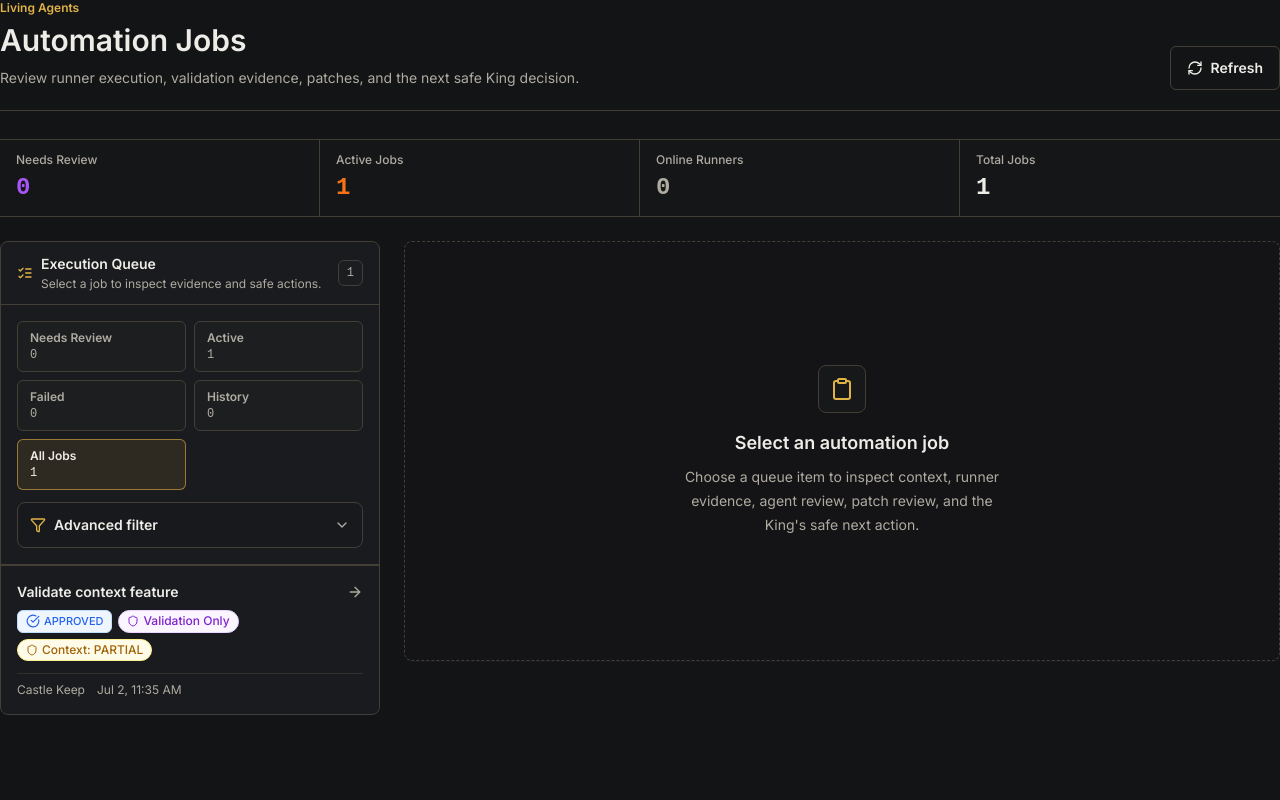
Test: AutomationJobsPage — context binding (M17E-2) › shows the Context Binding panel, partial-context warning, and Base Context Used in the detail view
This screenshot has width=1280, height=800.
What coordinates should you click on to do the following:
click the heading "Validate context feature"
I would click on:
 (98, 592)
Its box is [17,582,178,602].
(page scrolled)
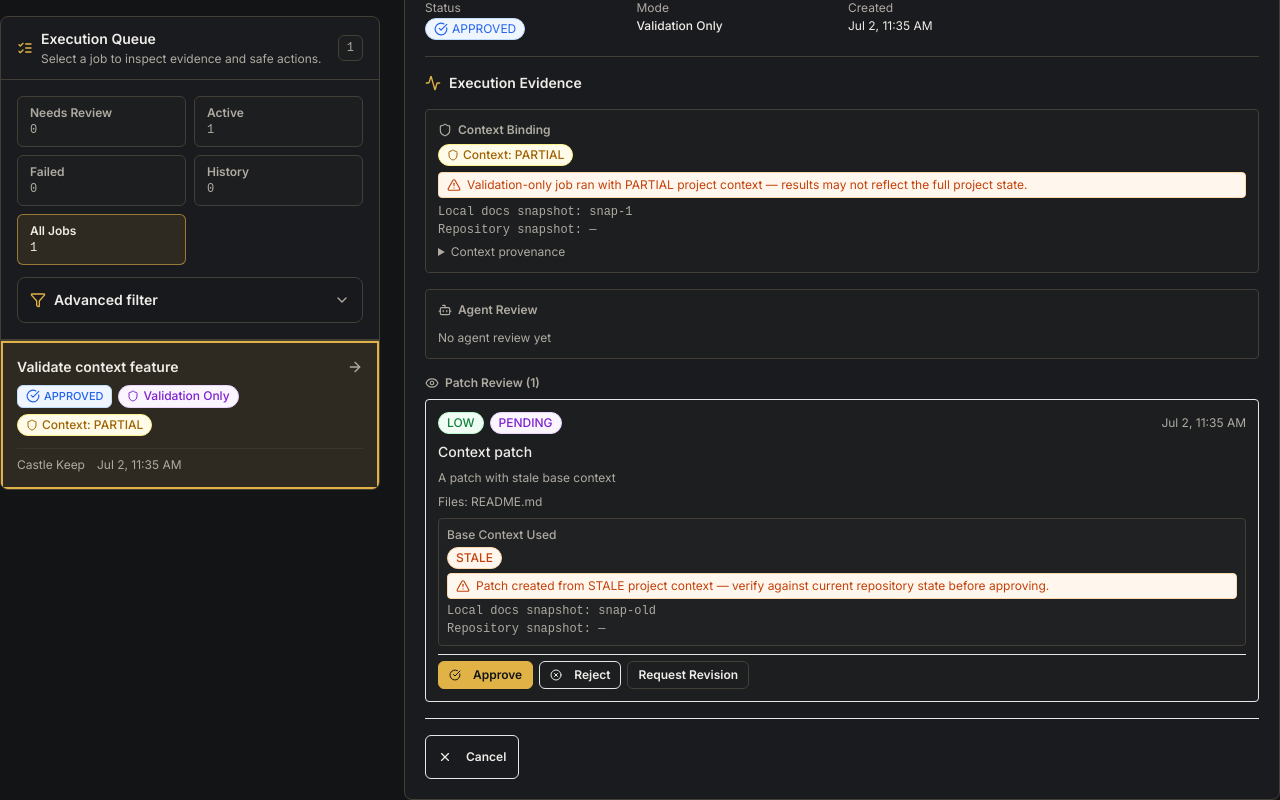
Result: the heading "Context Binding" is shown at [438,122,551,137]
Result: the text "Validation-only job ran with PARTIAL project context" is shown at [438,172,1246,198]
Result: the text "Local docs snapshot: snap-1" is shown at [438,205,632,219]
